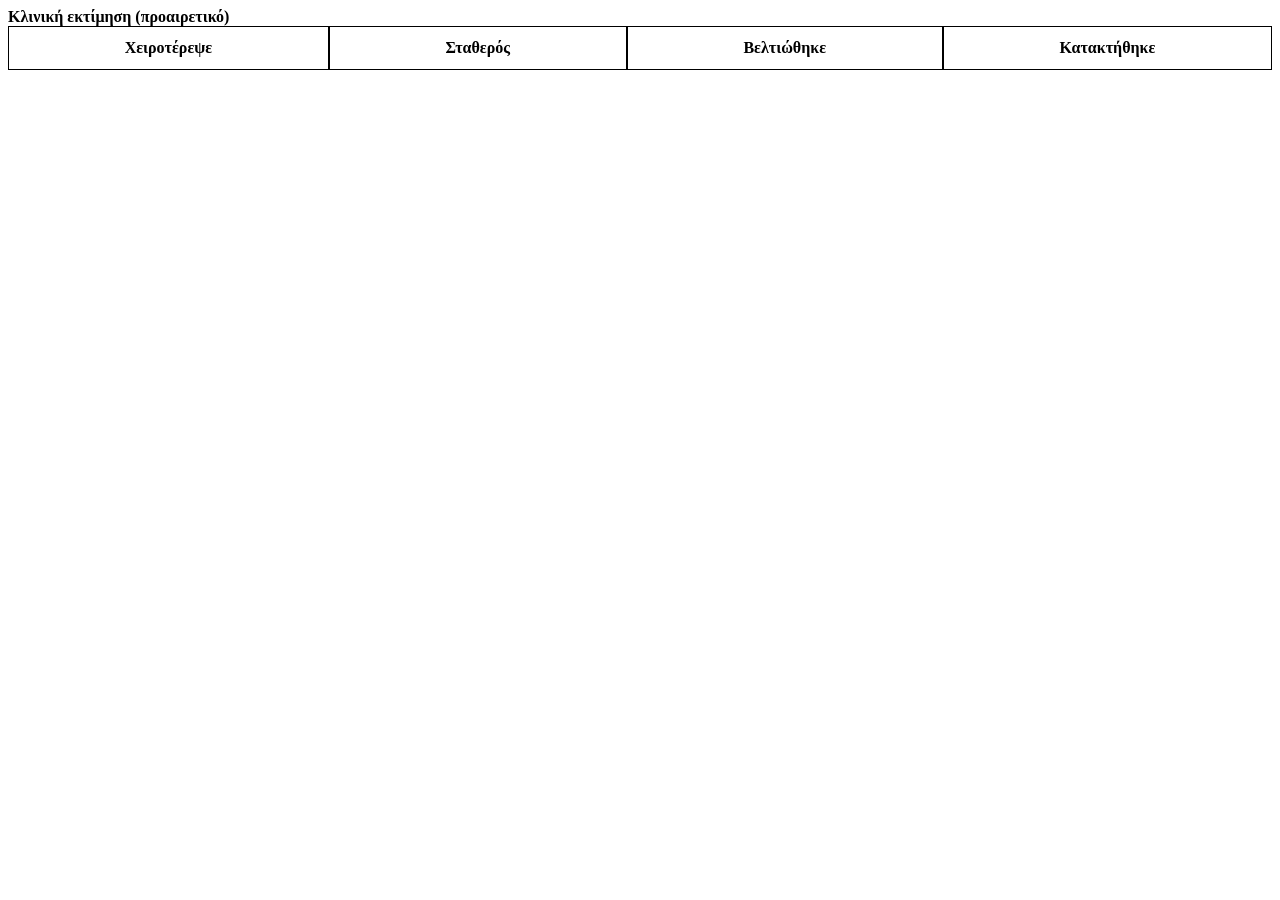
it: GoalClinicalAssessment — 4 βαθμίδες + προαιρετική σημείωση › «Κατακτήθηκε» + Άκυρο στο dialog → καμία αλλαγή, chip παραμένει μη επιλεγμένο
Click the button "Κατακτήθηκε" at coordinates (1107, 48), box [943,26,1272,70]
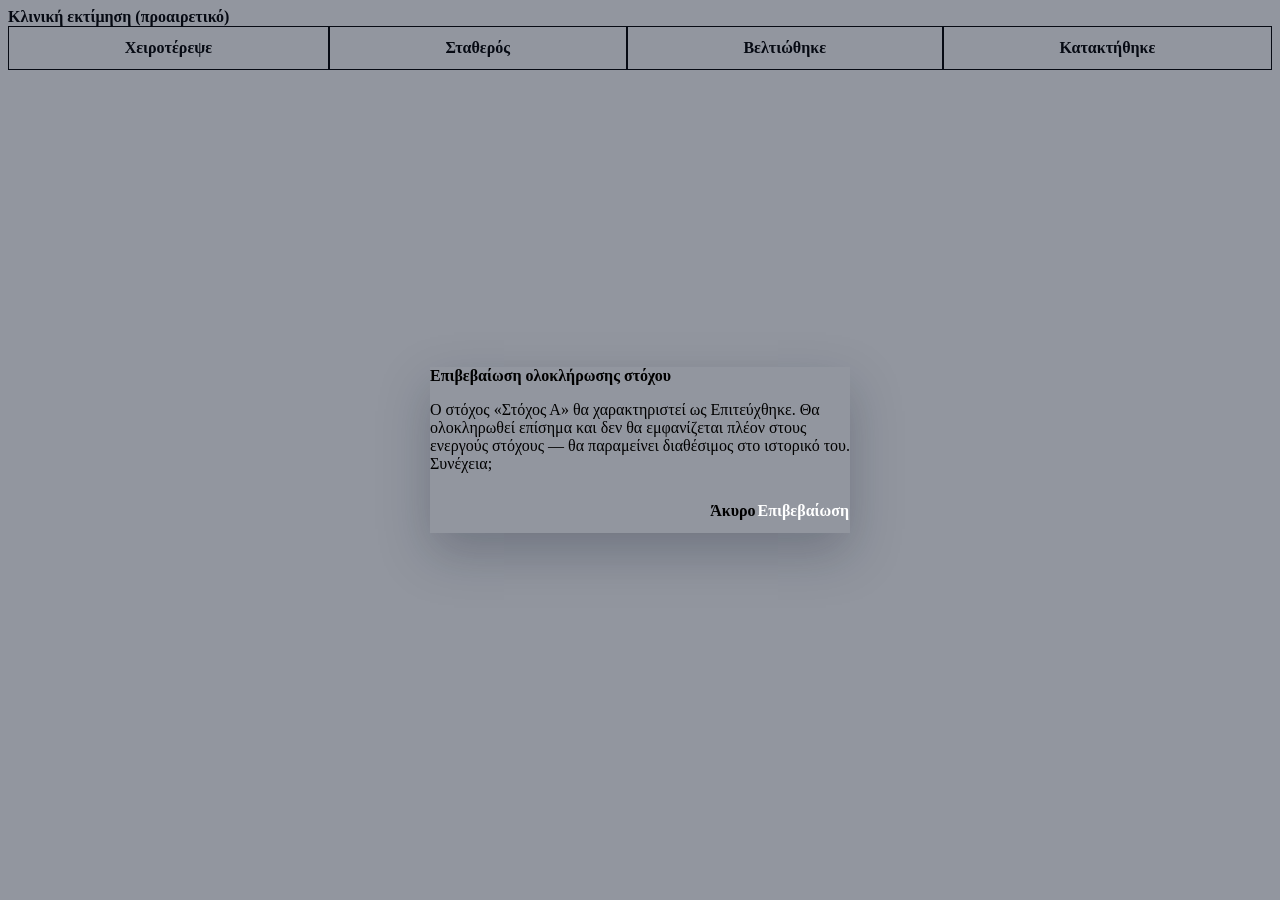
Click the button "Άκυρο" at coordinates (733, 511), box [709,489,756,533]
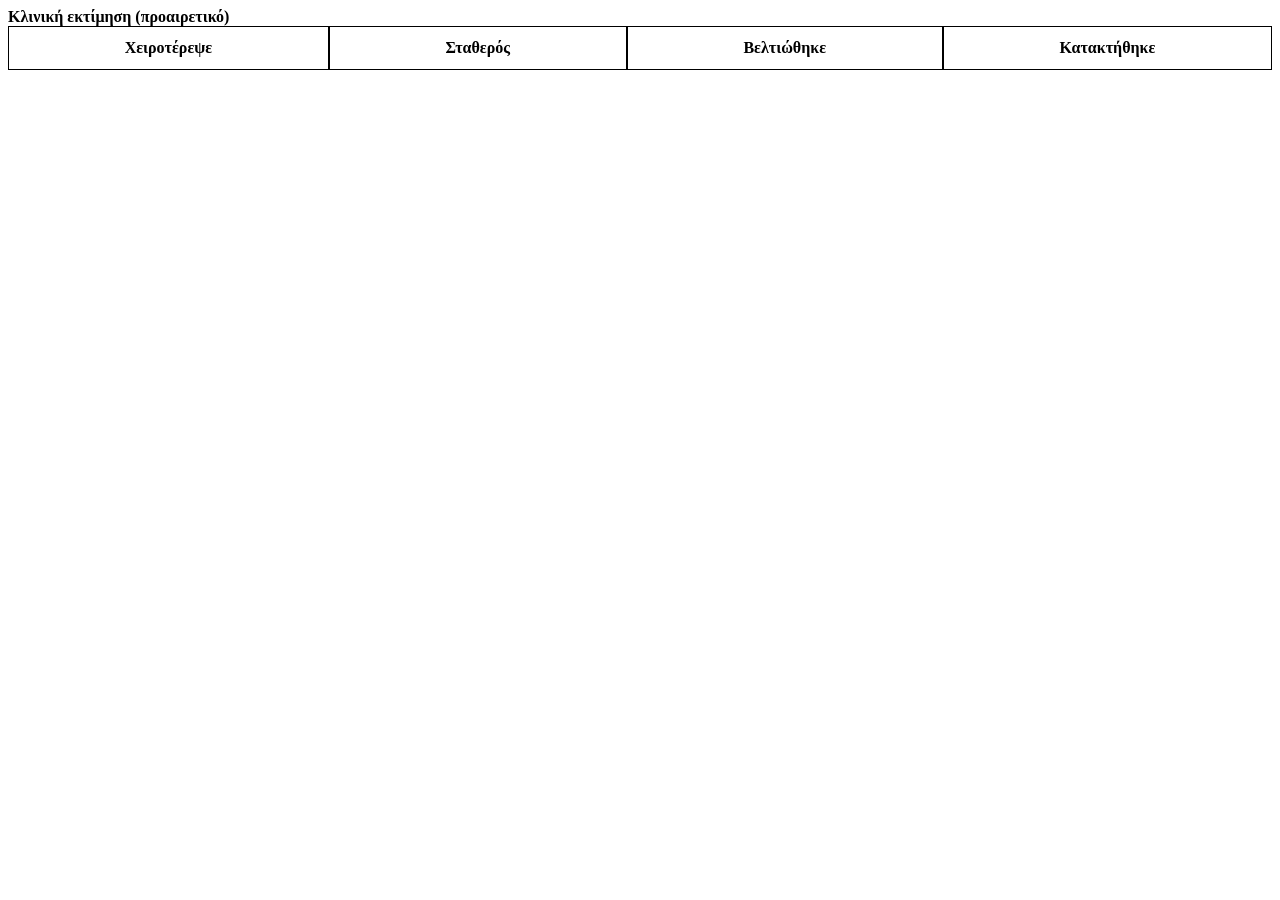
Result: the dialog is gone
